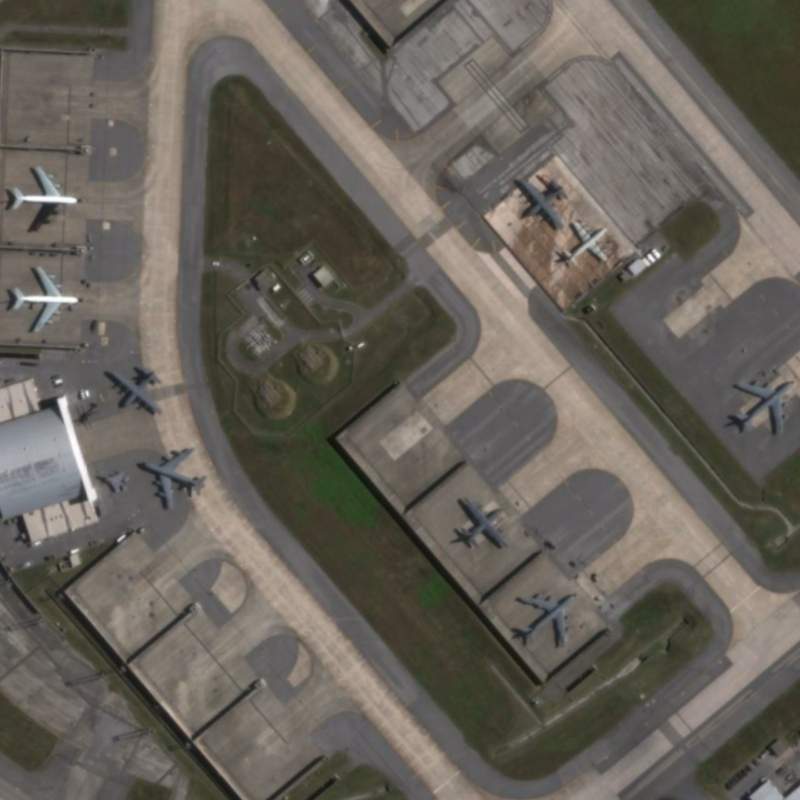A11: (1, 155, 87, 242), (6, 260, 89, 338)
A13: (94, 467, 132, 494)
A14: (132, 444, 211, 515), (722, 372, 799, 443), (506, 582, 581, 650)
A2: (96, 355, 169, 421), (449, 487, 510, 557), (510, 170, 571, 233)
A9: (555, 214, 618, 269)
